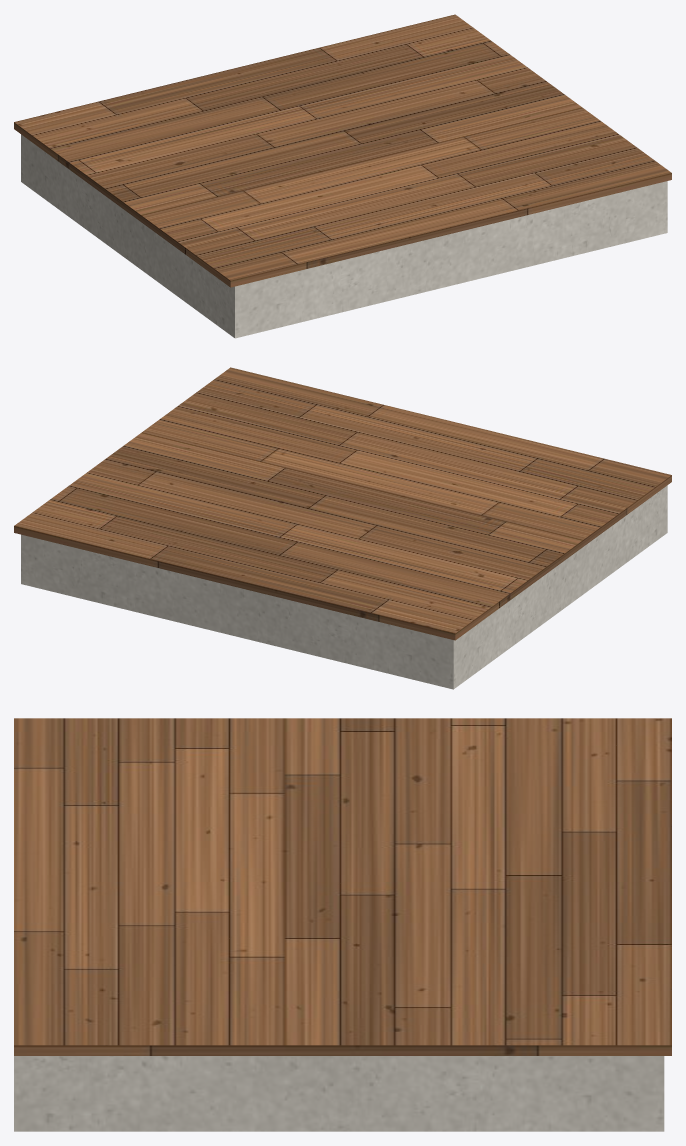
File: floor_floor_u_e0001.glb
3 renders of one model, top to bottom at view 1: azimuth 30°, elevation 25°; view 2: azimuth 150°, elevation 25°; view 3: azimuth 270°, elevation 25°, orthographic. The views are drawn at different scales.
Visible parts, largest first — view 1: floor_floor_u_e0001_floor, floor_floor_u_e0001_plaster; view 2: floor_floor_u_e0001_floor, floor_floor_u_e0001_plaster; view 3: floor_floor_u_e0001_floor, floor_floor_u_e0001_plaster.
Part boxes in pixels (x1,y1,x2,y2): floor_floor_u_e0001_floor: [14, 14, 671, 287]; floor_floor_u_e0001_plaster: [21, 134, 667, 338]; floor_floor_u_e0001_floor: [14, 367, 671, 640]; floor_floor_u_e0001_plaster: [21, 485, 667, 689]; floor_floor_u_e0001_floor: [14, 718, 671, 1055]; floor_floor_u_e0001_plaster: [14, 1056, 664, 1131].
Size of the model in its own units: 2 by 0.255 by 1.7.
2 materials, 2 textured.
